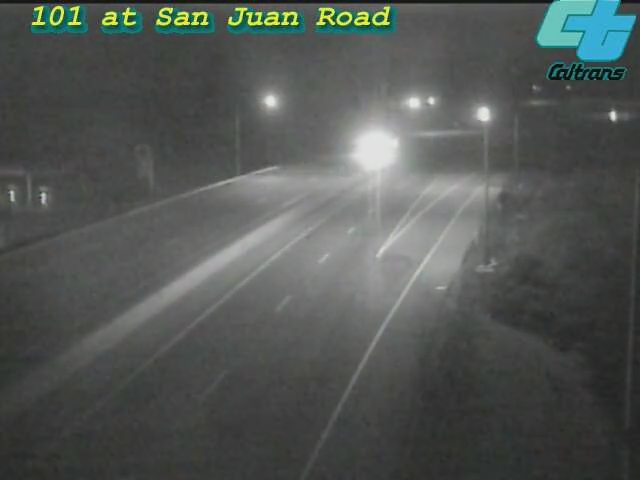vehicle: (345, 125, 395, 175), (460, 89, 510, 139), (591, 91, 640, 141)
